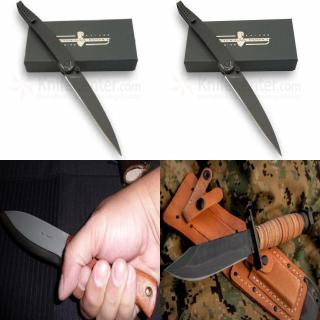knife: (2, 204, 118, 298), (61, 61, 122, 157), (222, 61, 282, 157), (162, 226, 255, 286)
